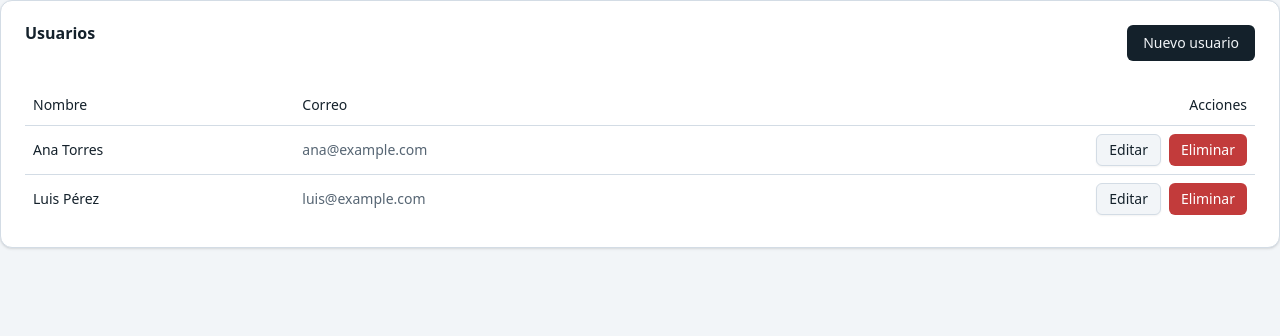
Test: crear usuario › muestra el error de la API (correo duplicado) y permanece en el formulario
Click the link "Nuevo usuario" at (1191, 43), box [1127,25,1255,61]
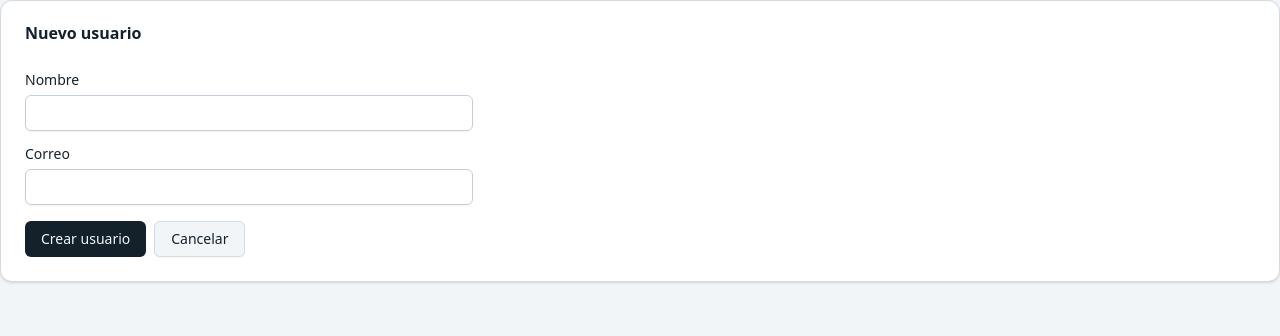
Type "Otra Ana" into the field labelled "Nombre" at (249, 113), box [25,95,473,131]
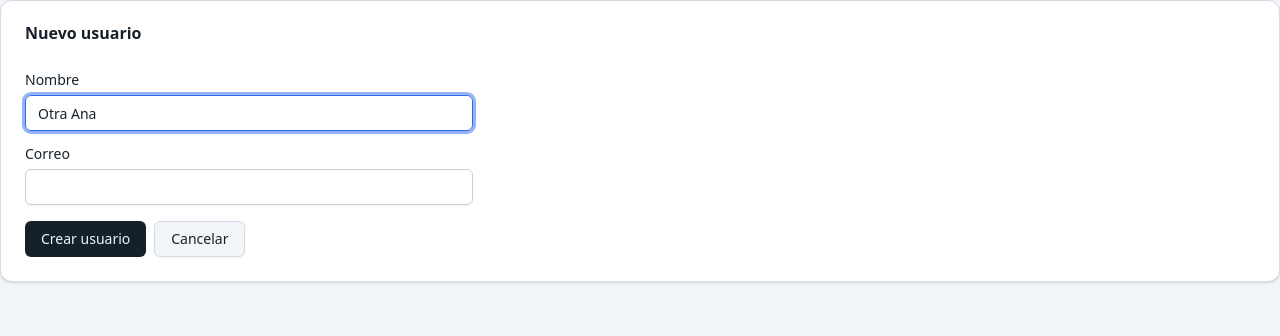
Type "ana@example.com" into the field labelled "Correo" at (249, 187), box [25,169,473,205]
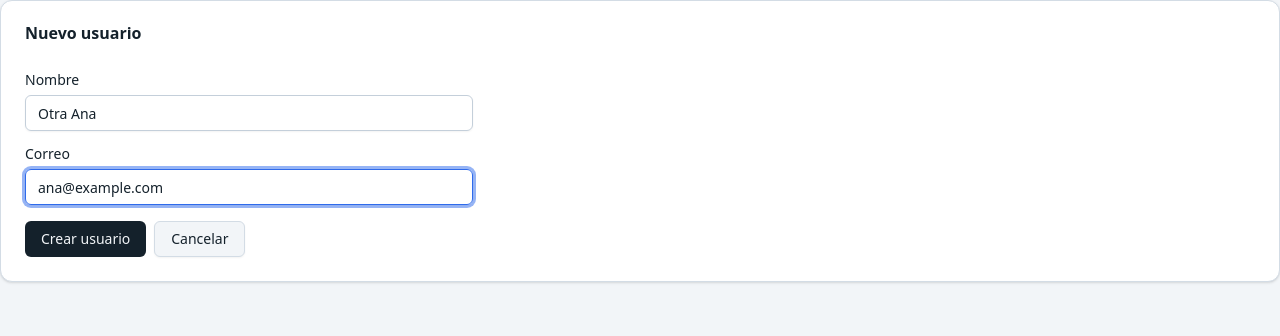
Click the button "Crear usuario" at (86, 239), box [25,221,146,257]
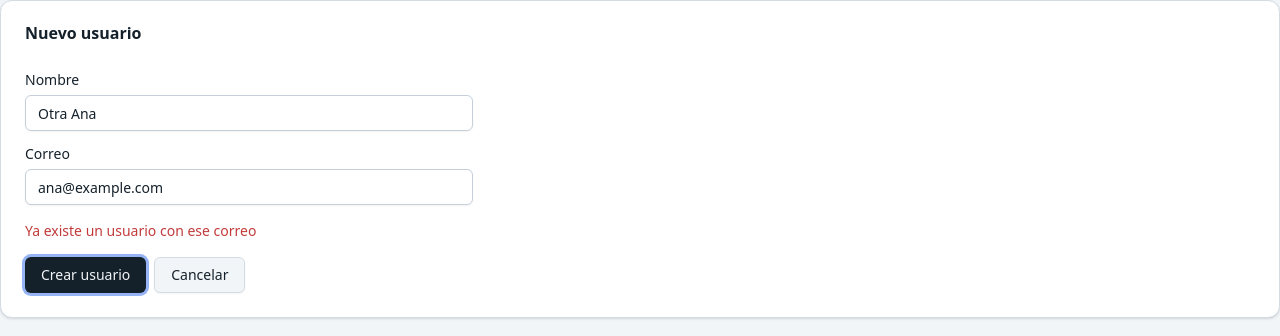
Now the text "Nuevo usuario" is shown, box [25,22,142,44]
Now the text "Ya existe un usuario con ese correo" is shown, box [25,221,256,240]
